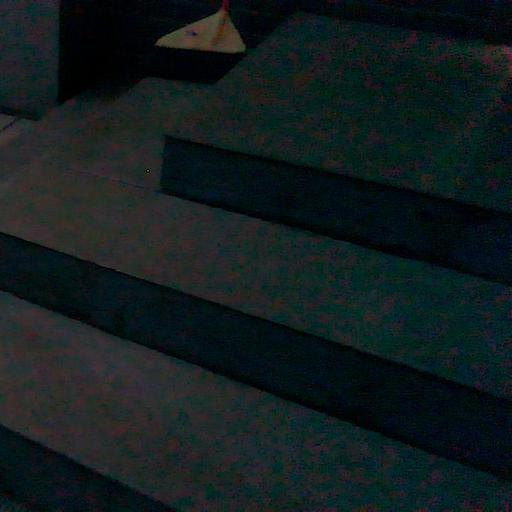stairs: (0, 16, 511, 511)
